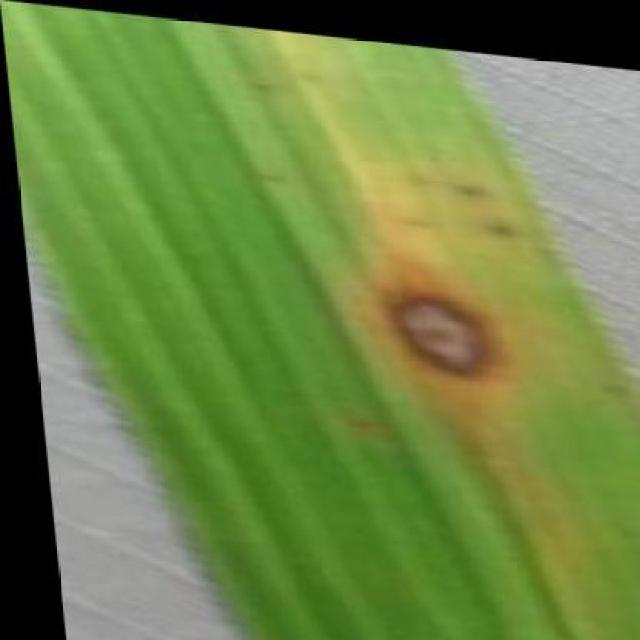Bacterial_Leaf_Blight: (340, 237, 534, 408)
Leaf_Blast: (359, 114, 498, 204), (373, 182, 445, 229), (332, 390, 396, 435), (458, 194, 524, 237), (440, 154, 500, 200), (248, 149, 300, 189), (600, 498, 640, 548), (238, 58, 284, 96), (590, 360, 636, 398)
